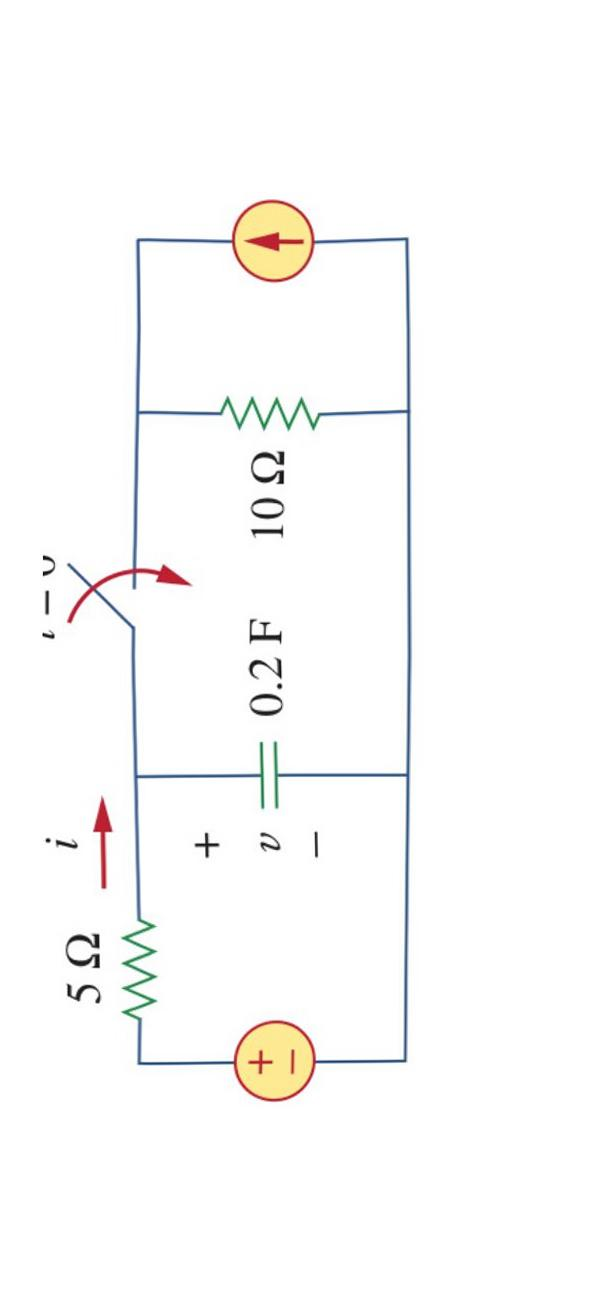Battery: (213, 994, 352, 1122)
